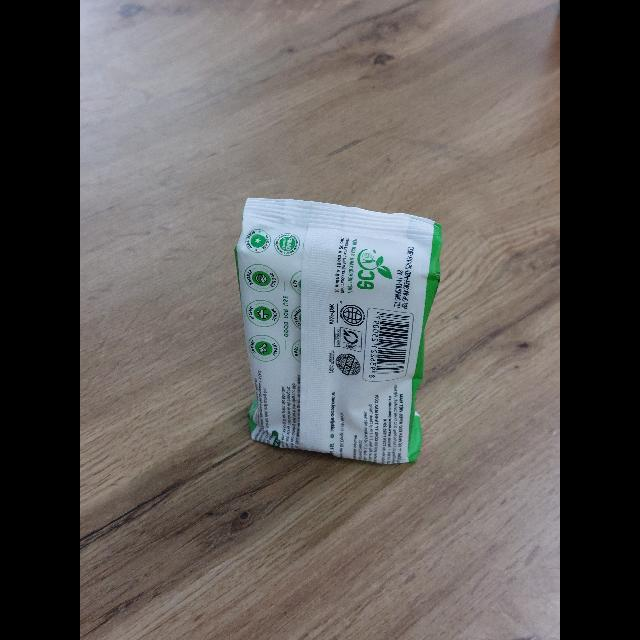khan_giay: (236, 198, 442, 464)
